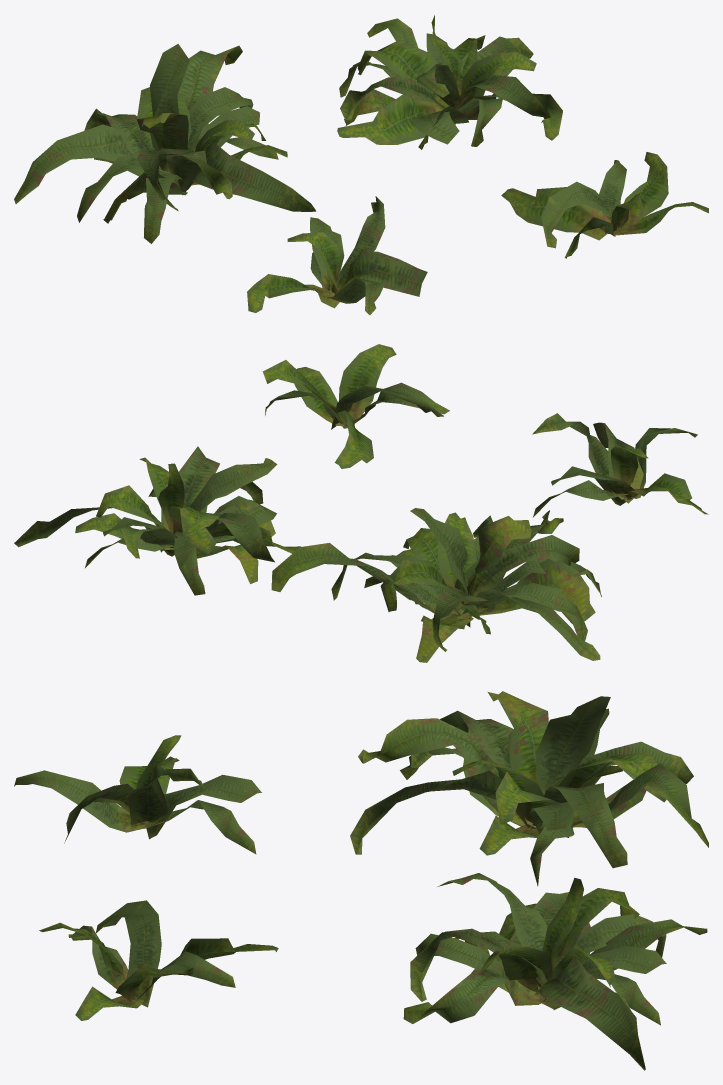
Rendered from fern-02-lod2.glb.
3 views of the same model, one above another, from view 1: azimuth 30°, elevation 25°; view 2: azimuth 150°, elevation 25°; view 3: azimuth 270°, elevation 25° (orthographic). The views are drawn at different scales.
Visible parts, largest first — view 1: fern_02_b; view 2: fern_02_b; view 3: fern_02_b.
Part boxes in pixels (<box>): fern_02_b: <box>14,15,708,314</box>; fern_02_b: <box>14,344,708,662</box>; fern_02_b: <box>14,691,708,1070</box>.
Size of the model in its own units: 1.97 by 0.4277 by 1.72.
1 material, 1 textured.
